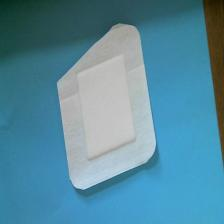Cut: (50, 21, 160, 198)
